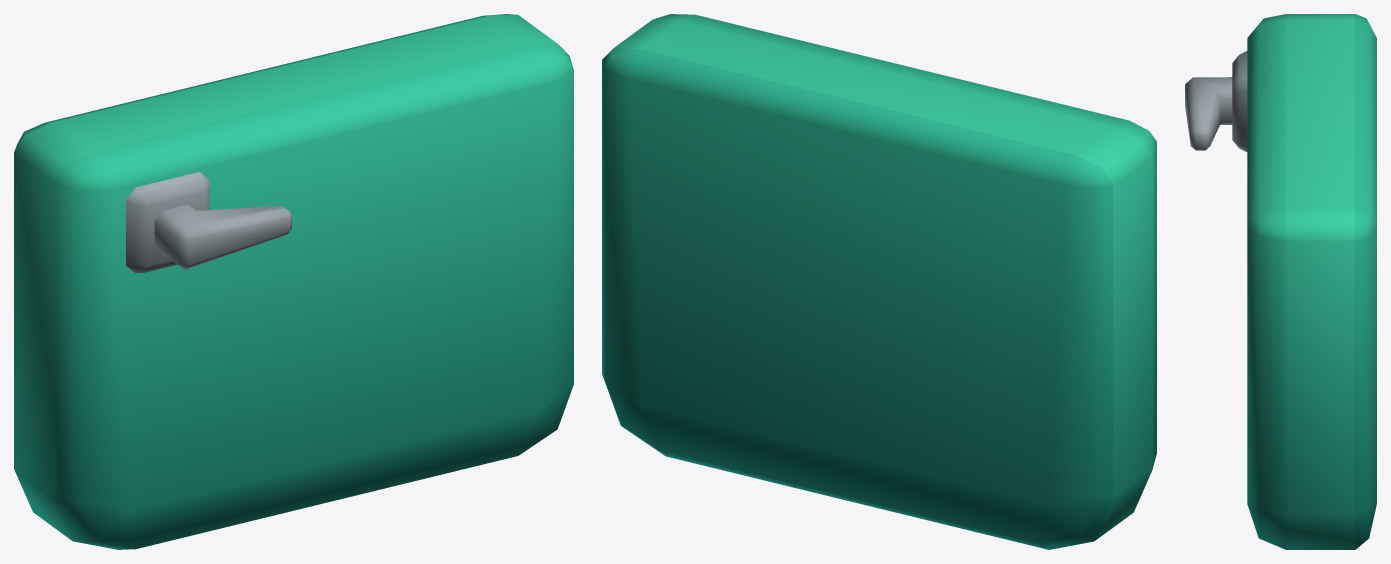
Rendered from fridge_A_decorated_door_bottom.obj.
3 renders of one model, left to right at view 1: azimuth 30°, elevation 25°; view 2: azimuth 150°, elevation 25°; view 3: azimuth 270°, elevation 25°, orthographic. The views are drawn at different scales.
Parts seen in each view (by area): view 1: fridge_A_decorated_door_bottom_Cube.108; view 2: fridge_A_decorated_door_bottom_Cube.108; view 3: fridge_A_decorated_door_bottom_Cube.108.
Boxes of the visible parts, x1,y1,x2,y2 form: fridge_A_decorated_door_bottom_Cube.108: (14, 14, 573, 549); fridge_A_decorated_door_bottom_Cube.108: (602, 14, 1156, 549); fridge_A_decorated_door_bottom_Cube.108: (1185, 14, 1376, 549).
Size of the model in its own units: 2 by 1.5 by 0.74.
Materials: 1 (1 with a texture image).
